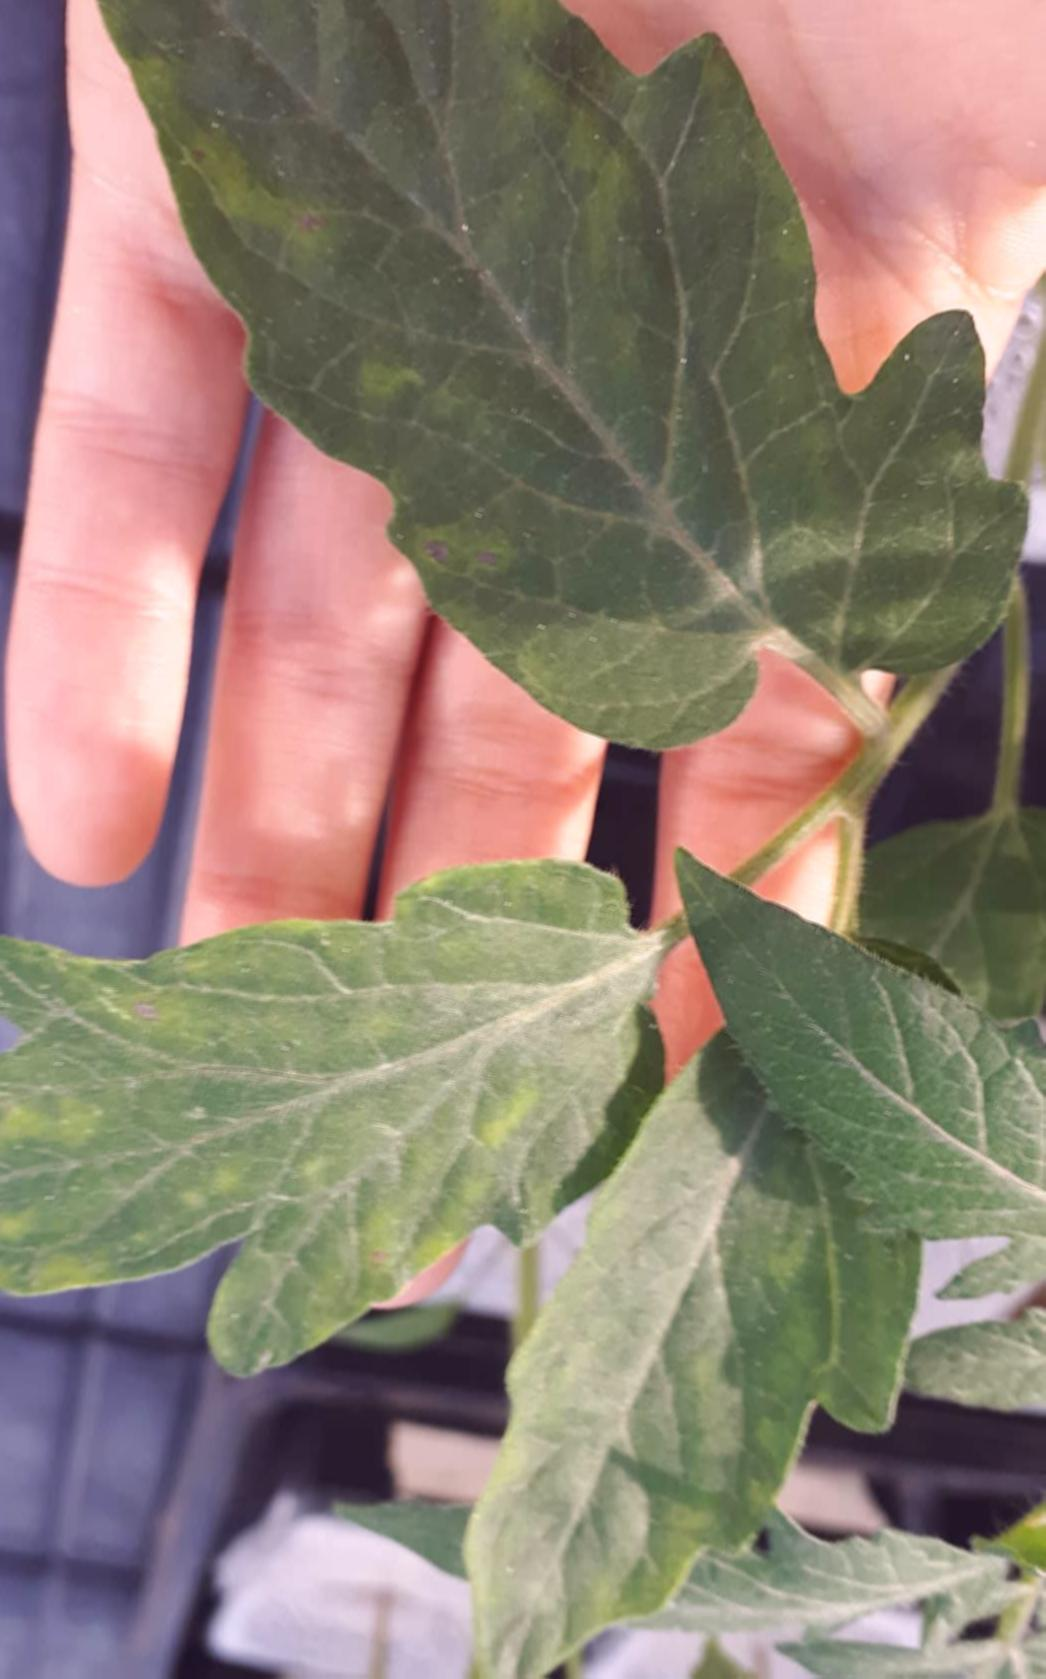Tomato mold leaf: (102, 0, 1038, 774), (0, 886, 688, 1404), (666, 809, 1046, 1301)
